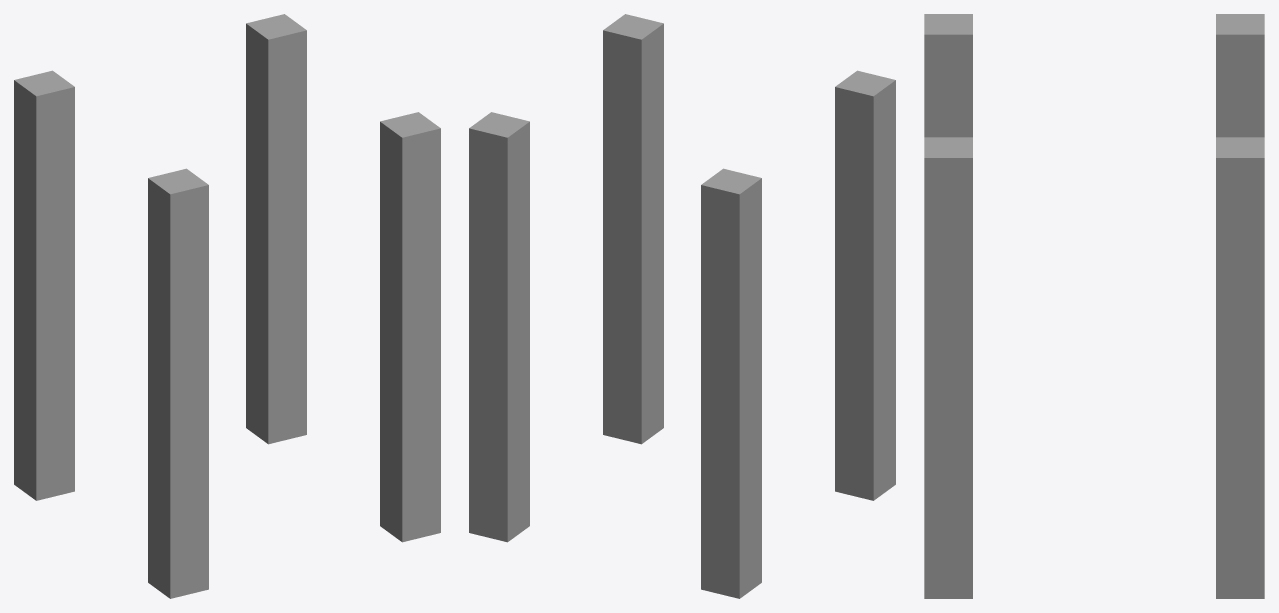
The model's file is TableLeg2.obj.
3 views of the same model, side by side, from view 1: azimuth 30°, elevation 25°; view 2: azimuth 150°, elevation 25°; view 3: azimuth 270°, elevation 25° (orthographic). The views are drawn at different scales.
Size of the model in its own units: 0.7 by 1 by 0.7.
